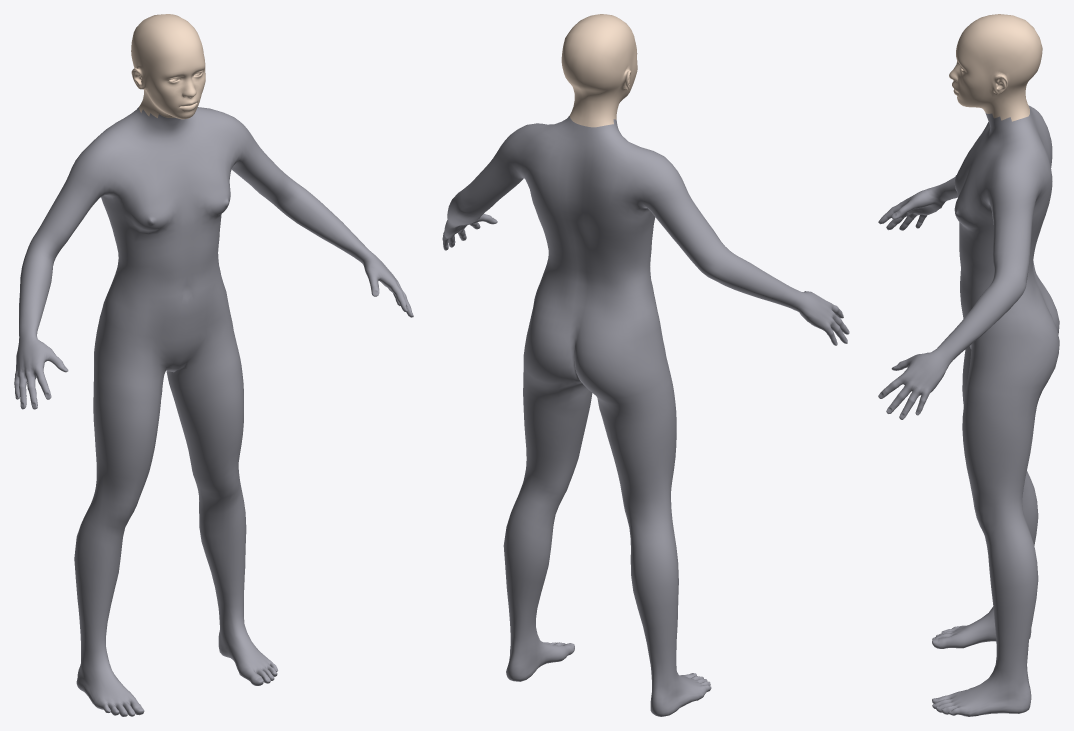
File: npc_f_athletic.glb
3 views of the same model, side by side, from view 1: azimuth 30°, elevation 25°; view 2: azimuth 150°, elevation 25°; view 3: azimuth 270°, elevation 25° (orthographic).
Parts seen in each view (by area): view 1: Human; view 2: Human; view 3: Human.
Boxes of the visible parts, x1,y1,x2,y2 form: Human: (14, 14, 413, 716); Human: (442, 14, 849, 716); Human: (878, 14, 1059, 716).
Bounding box in the file's own units: 1.07 × 1.72 × 0.4285.
